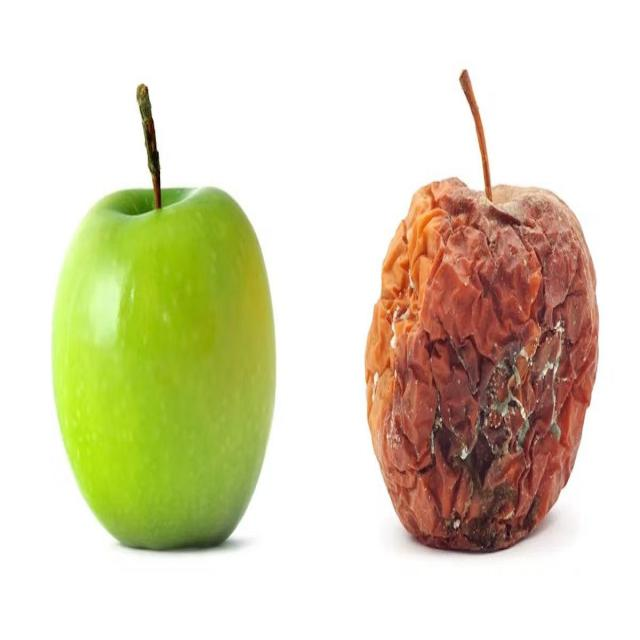fresh_apple: (52, 186, 272, 541)
rotten_apple: (364, 180, 596, 542)
